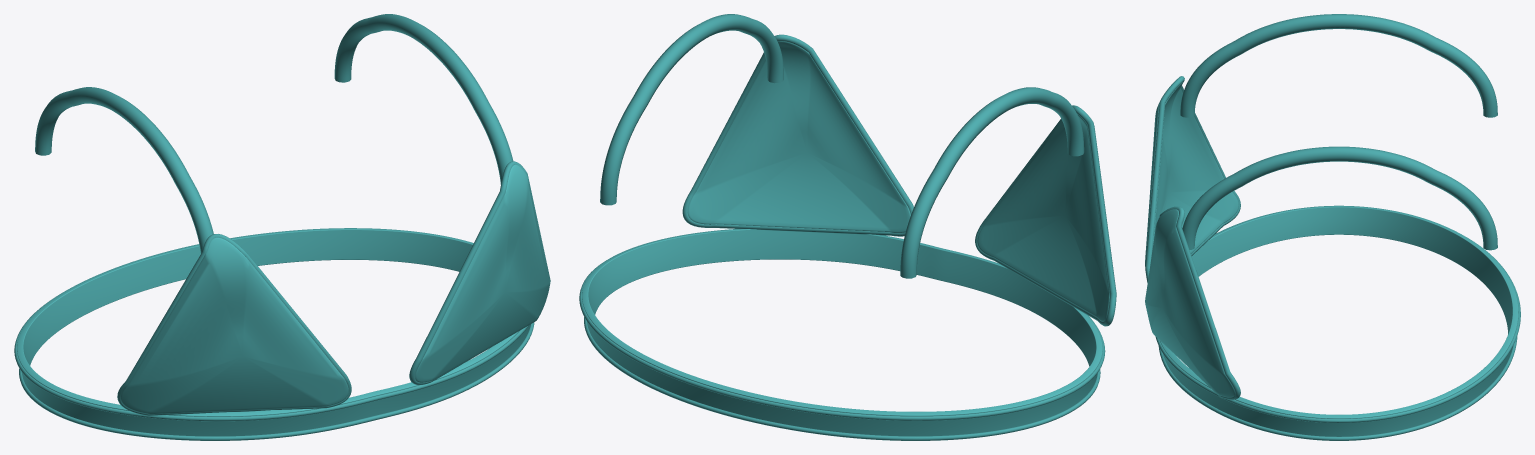
Rendered from Feminine-triangle-top.glb.
The picture shows the model from 3 angles, left to right: view 1: azimuth 30°, elevation 25°; view 2: azimuth 150°, elevation 25°; view 3: azimuth 270°, elevation 25°; orthographic projection. The views are drawn at different scales.
Parts seen in each view (by area): view 1: Clothing / Triangle underband, Triangle fabric panel -1, Triangle fabric panel 1, Triangle shoulder strap.001 export, Triangle shoulder strap export, Triangle underband stitched edge export, Triangle underband stitched edge.001 export, Triangle bound edge export, Triangle bound edge.001 export; view 2: Clothing / Triangle underband, Triangle fabric panel 1, Triangle fabric panel -1, Triangle shoulder strap export, Triangle shoulder strap.001 export, Triangle bound edge.001 export, Triangle underband stitched edge.001 export, Triangle underband stitched edge export, Triangle bound edge export; view 3: Clothing / Triangle underband, Triangle fabric panel 1, Triangle fabric panel -1, Triangle shoulder strap export, Triangle shoulder strap.001 export, Triangle underband stitched edge.001 export, Triangle underband stitched edge export, Triangle bound edge export, Triangle bound edge.001 export.
Part boxes in pixels (x1,y1,x2,y2): Clothing / Triangle underband: [17, 228, 530, 440]; Triangle fabric panel -1: [120, 237, 348, 414]; Triangle fabric panel 1: [415, 164, 550, 382]; Triangle shoulder strap.001 export: [334, 14, 513, 184]; Triangle shoulder strap export: [35, 87, 213, 253]; Triangle underband stitched edge export: [19, 322, 534, 440]; Triangle underband stitched edge.001 export: [14, 293, 528, 421]; Triangle bound edge export: [117, 234, 351, 415]; Triangle bound edge.001 export: [409, 161, 550, 384]; Clothing / Triangle underband: [582, 229, 1102, 440]; Triangle fabric panel 1: [687, 41, 910, 232]; Triangle fabric panel -1: [977, 114, 1113, 321]; Triangle shoulder strap export: [900, 87, 1084, 278]; Triangle shoulder strap.001 export: [600, 14, 783, 205]; Triangle bound edge.001 export: [682, 34, 913, 236]; Triangle underband stitched edge.001 export: [579, 263, 1105, 420]; Triangle underband stitched edge export: [584, 317, 1100, 440]; Triangle bound edge export: [975, 105, 1116, 326]; Clothing / Triangle underband: [1159, 205, 1518, 440]; Triangle fabric panel 1: [1145, 209, 1235, 397]; Triangle fabric panel -1: [1145, 82, 1238, 277]; Triangle shoulder strap export: [1180, 14, 1497, 117]; Triangle shoulder strap.001 export: [1182, 146, 1497, 250]; Triangle underband stitched edge.001 export: [1155, 238, 1520, 422]; Triangle underband stitched edge export: [1158, 336, 1517, 440]; Triangle bound edge export: [1145, 76, 1240, 282]; Triangle bound edge.001 export: [1153, 206, 1240, 399].
Size of the model in its own units: 0.6702 by 0.3728 by 0.4961.
